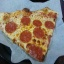pepperoni: (22, 43, 41, 59), (18, 28, 33, 43), (20, 15, 35, 28), (4, 21, 16, 35), (33, 25, 43, 41), (45, 18, 54, 31), (33, 19, 41, 30)
pizza: (1, 11, 58, 60)
